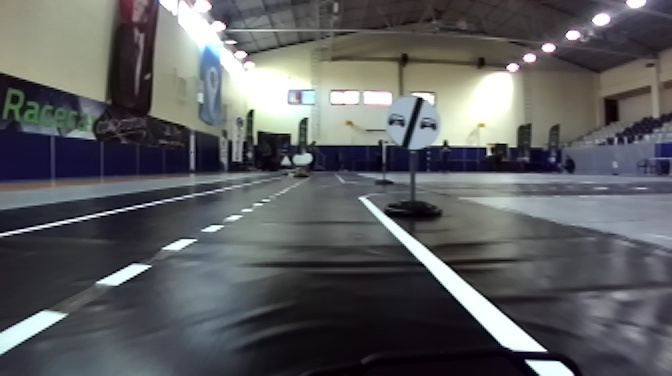sollama_serbest: (387, 96, 438, 151)
